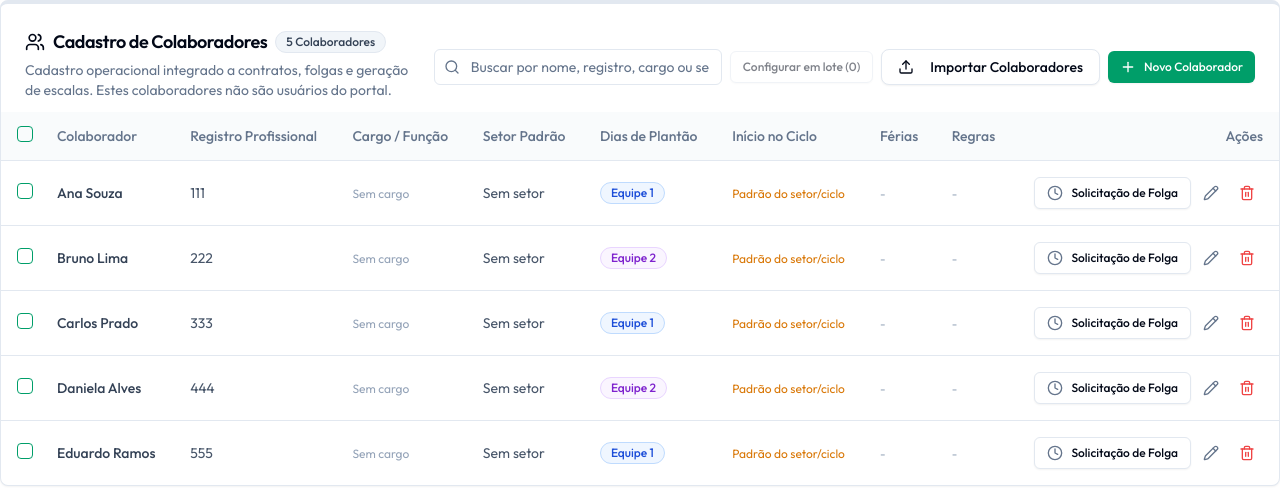
Test: StaffProfiles - Contador total ao lado do título › 2. O total é o número REAL de TODOS os colaboradores do banco (todas as páginas) e NÃO é afetado por filtros de busca
The width and height of the screenshot is (1280, 503).
Expected: the text "5 Colaboradores" is shown, x1=275 y1=31 x2=386 y2=53
Expected: the text "Ana Souza" is shown, x1=57 y1=182 x2=123 y2=202
# Usuário digita filtro de busca que só coincide com 'Daniela'
Type "Daniela" into the field with placeholder "Buscar por nome, registro, cargo ou setor...". click: (578, 67)
box: x1=434 y1=49 x2=722 y2=85
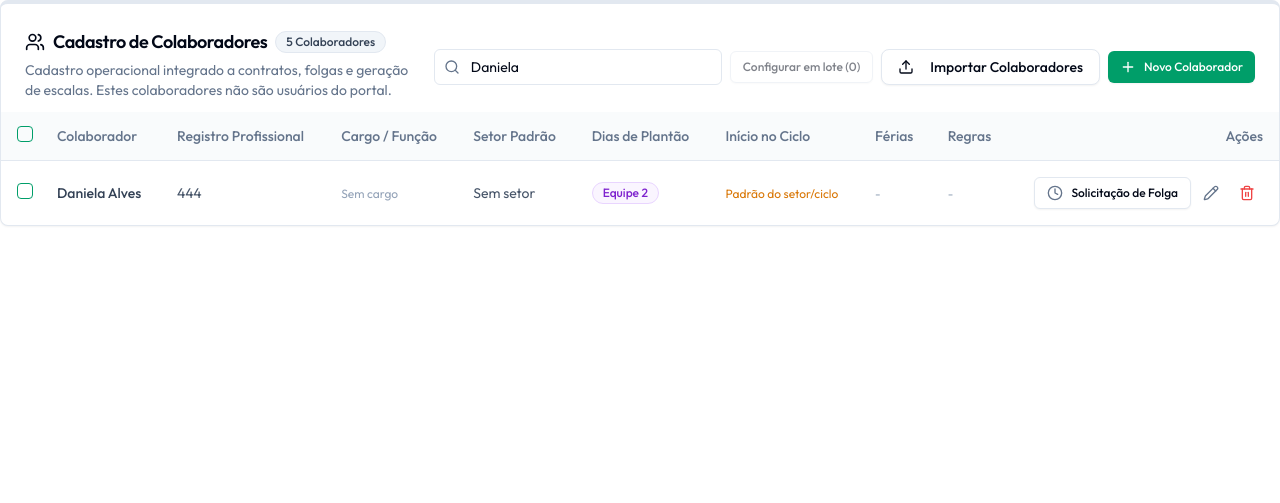
Expected: the text "Daniela Alves" is shown, x1=57 y1=182 x2=141 y2=202
Expected: the text "Ana Souza" is gone
Expected: the text "Bruno Lima" is gone
